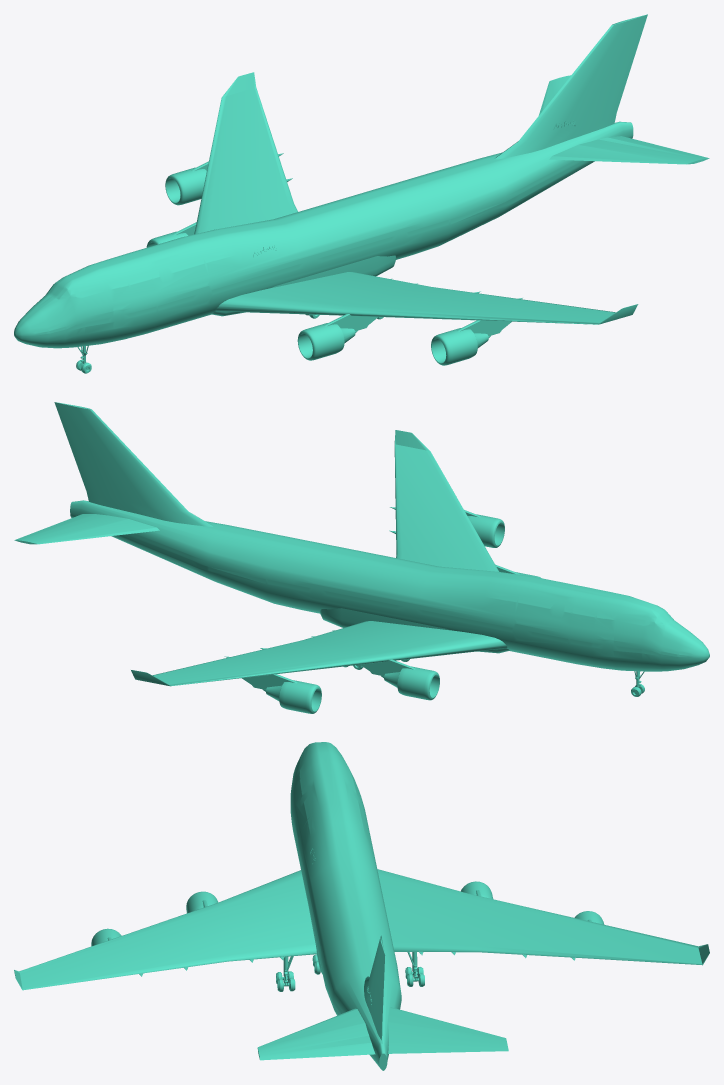
File: airbus.obj
3 renders of one model, top to bottom at view 1: azimuth 30°, elevation 25°; view 2: azimuth 150°, elevation 25°; view 3: azimuth 270°, elevation 25°, orthographic. The views are drawn at different scales.
Parts seen in each view (by area): view 1: Component_7_001; view 2: Component_7_001; view 3: Component_7_001.
Boxes of the visible parts, left/top/right/bottom form: Component_7_001: left=14, top=14, right=709, bottom=373; Component_7_001: left=14, top=402, right=709, bottom=713; Component_7_001: left=14, top=742, right=709, bottom=1070.
Bounding box in the file's own units: 1856 × 505 × 1608.
